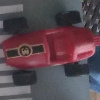carro: (2, 11, 100, 82)
